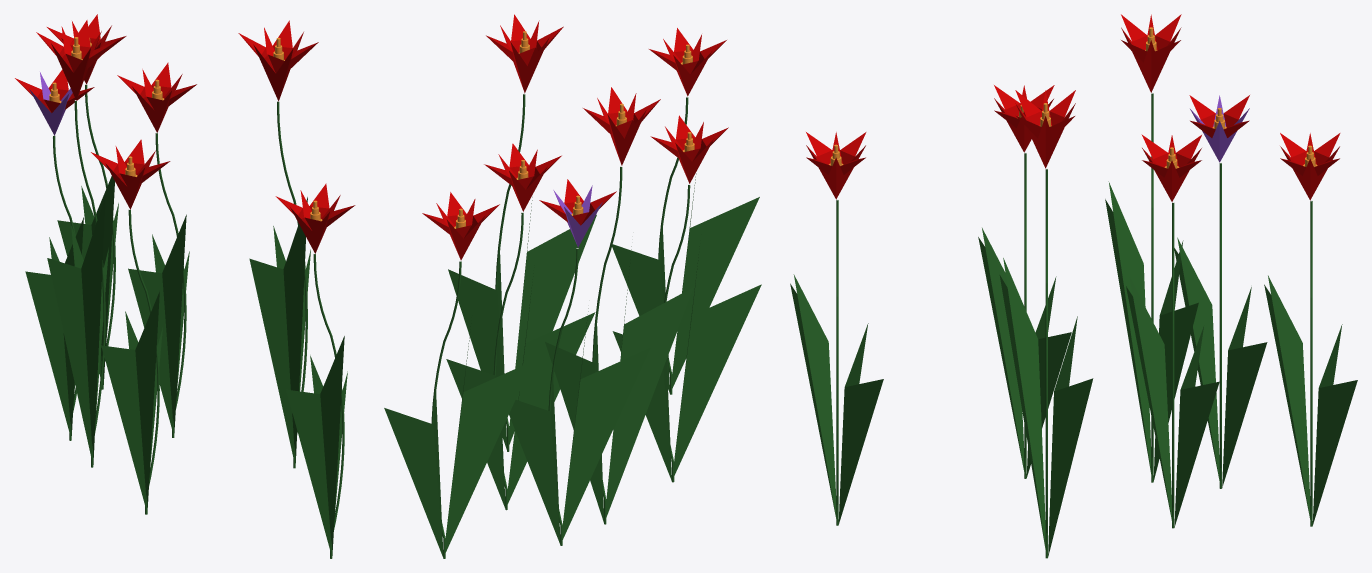
The model's file is flowers.fbx.
3 renders of one model, left to right at view 1: azimuth 30°, elevation 25°; view 2: azimuth 150°, elevation 25°; view 3: azimuth 270°, elevation 25°, orthographic. The views are drawn at different scales.
Visible parts, largest first — view 1: Group8, Group28, Group20, Group24, Group16, Group4, Group27, Group7, Group12, Group23, Group15, Group19 (+14 smaller); view 2: Group8, Group4, Group12, Group20, Group24, Group28, Group10, Group16, Group2, Group26, Group22, Group6 (+15 smaller); view 3: Group28, Group26, Group24, Group12, Group16, Group8, Group10, Group2, Group14, Group22, Group4, Group20 (+15 smaller).
Boxes of the visible parts, x1,y1,x2,y2 form: Group8: [47, 196, 105, 464]; Group28: [249, 197, 307, 462]; Group20: [101, 291, 159, 509]; Group24: [286, 336, 344, 555]; Group16: [128, 214, 186, 432]; Group4: [25, 217, 83, 435]; Group27: [238, 20, 318, 101]; Group7: [36, 20, 116, 100]; Group12: [57, 176, 114, 384]; Group23: [275, 183, 355, 253]; Group15: [117, 62, 196, 132]; Group19: [91, 139, 170, 209]; Group8: [606, 246, 693, 517]; Group4: [562, 308, 650, 539]; Group12: [445, 323, 532, 552]; Group20: [674, 246, 761, 475]; Group24: [672, 173, 759, 388]; Group28: [509, 197, 596, 444]; Group10: [384, 384, 443, 558]; Group16: [507, 273, 595, 503]; Group2: [509, 369, 560, 544]; Group26: [448, 237, 507, 450]; Group22: [612, 220, 670, 393]; Group6: [545, 309, 604, 523]; Group28: [999, 258, 1046, 556]; Group26: [1048, 316, 1093, 556]; Group24: [790, 274, 837, 525]; Group12: [1264, 275, 1311, 525]; Group16: [1126, 277, 1173, 526]; Group8: [1105, 181, 1152, 481]; Group10: [1312, 324, 1357, 525]; Group2: [1222, 287, 1267, 487]; Group14: [1174, 326, 1219, 527]; Group22: [838, 323, 883, 524]; Group4: [1174, 237, 1220, 487]; Group20: [978, 228, 1025, 477].
Size of the model in its own units: 2589 by 4053 by 4656.
